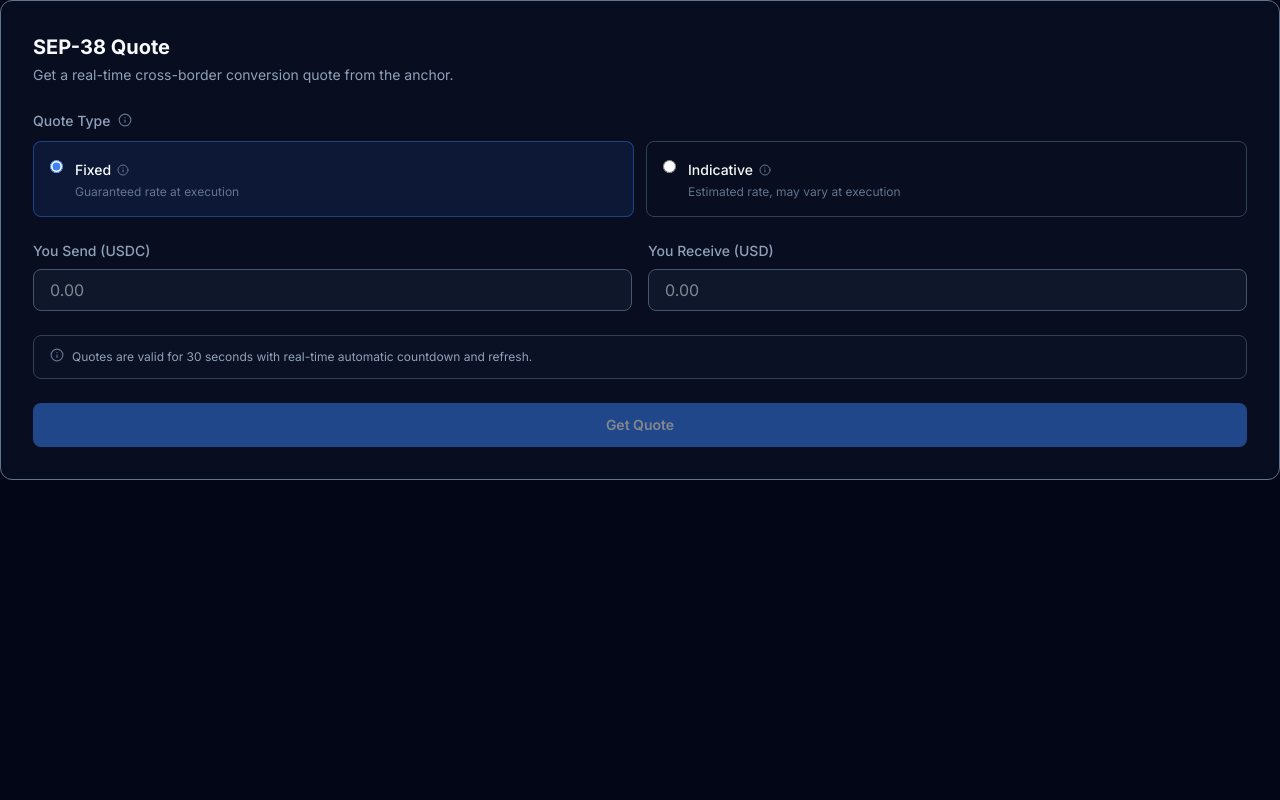
Test case: Sep38QuotePanel Component › submits accepted quote successfully
The image size is (1280, 800).
Step 1. Type "150.00" into the number field labelled "You Send (USDC)" → (332, 290), box [33,269,632,311]
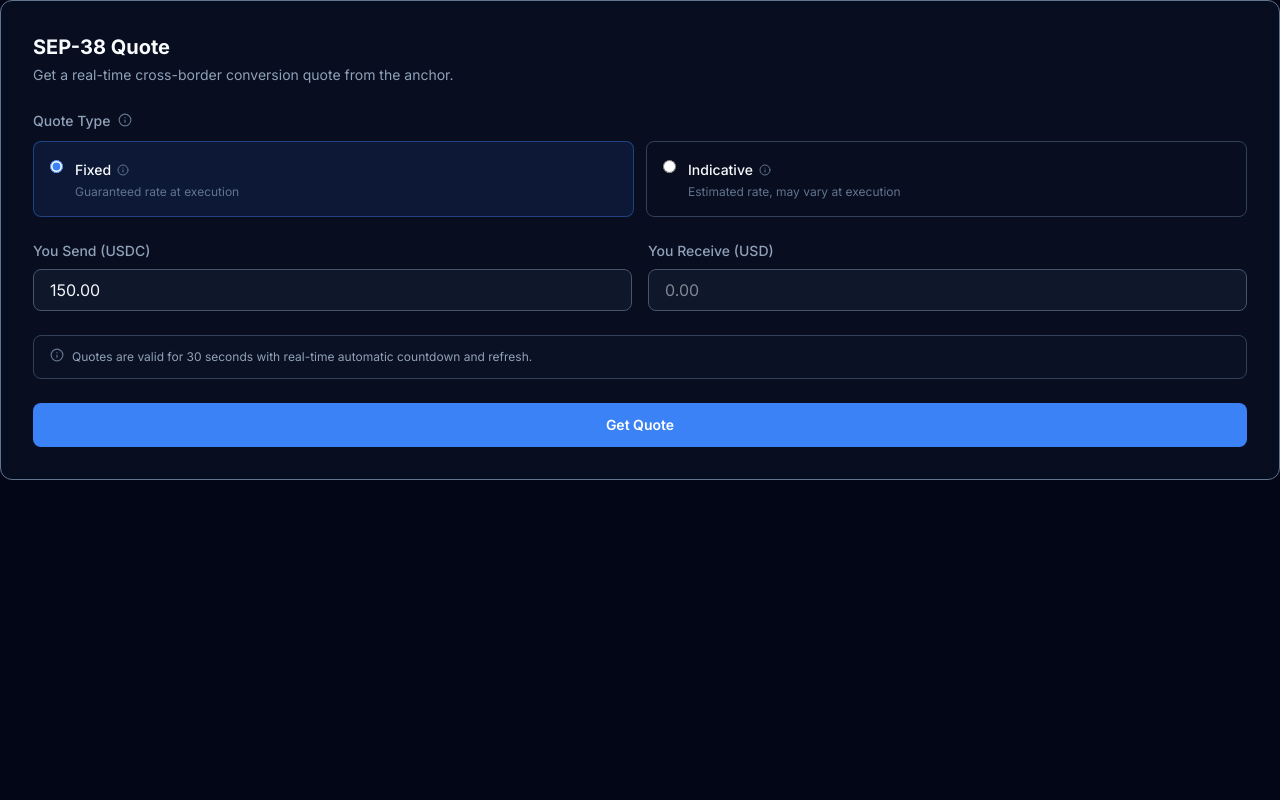
Step 2. Click the button "Get Quote" → (640, 425), box [33,403,1247,447]
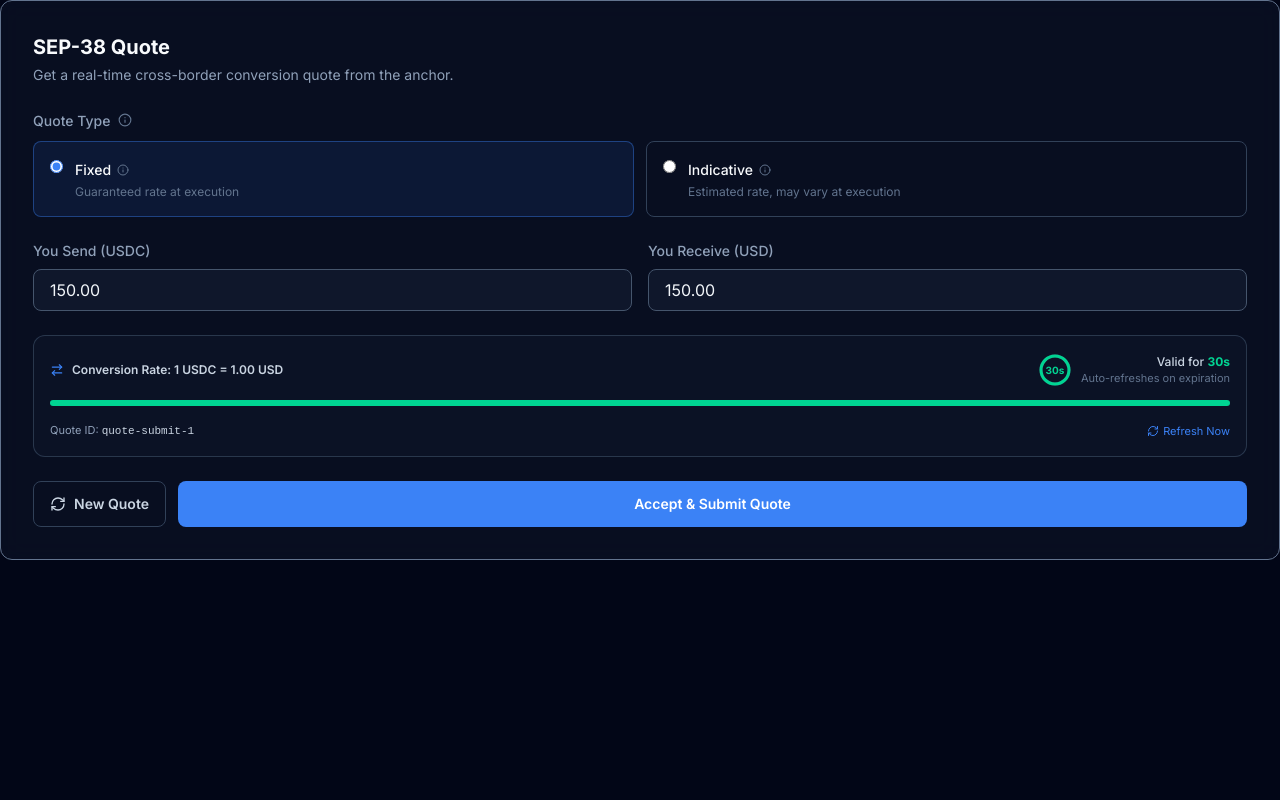
Result: the button "Accept & Submit Quote" is enabled
Step 3. Click the button "Accept & Submit Quote" → (712, 504), box [178,480,1247,526]
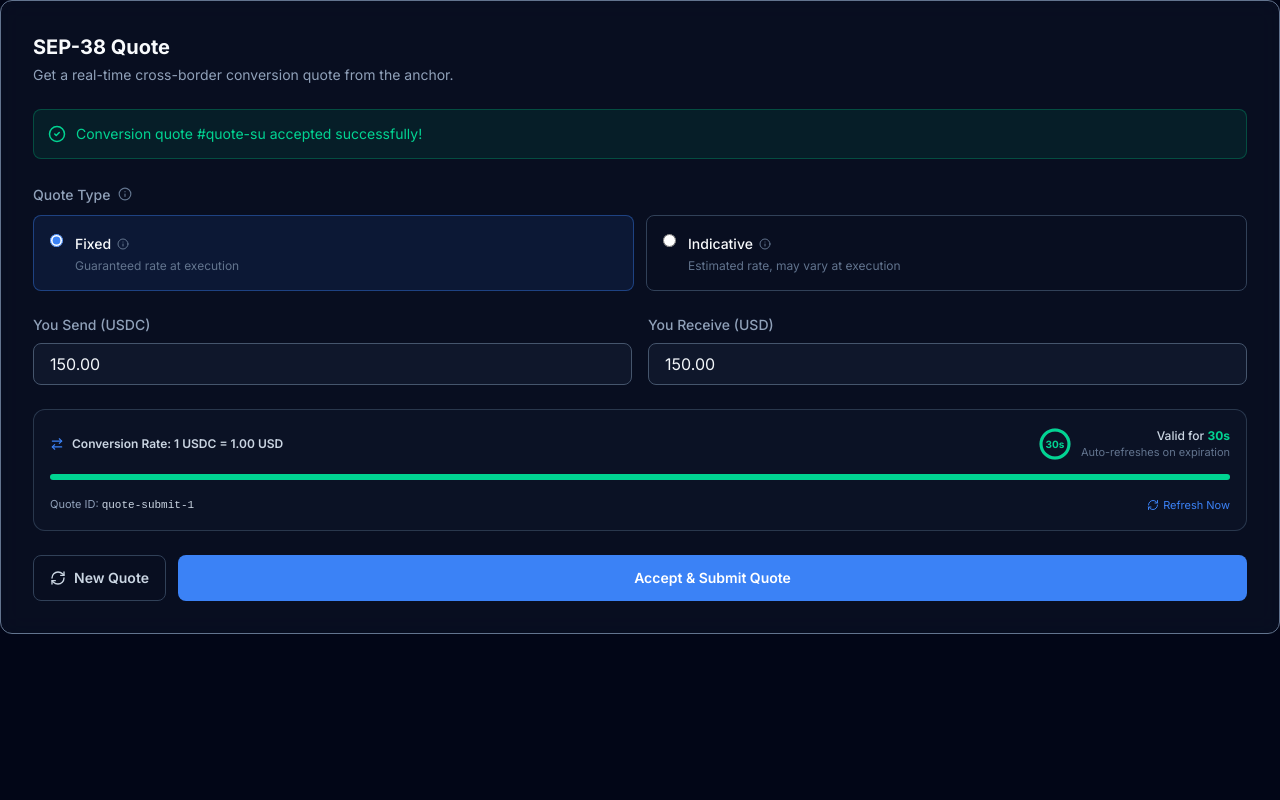
Result: the text "Conversion quote #quote-su accepted successfully!" is shown at [76,124,422,144]
